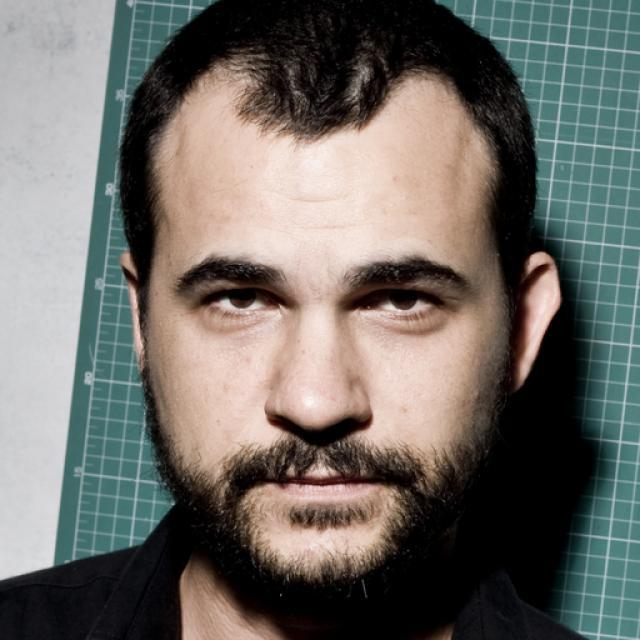neutral: (146, 45, 514, 608)
